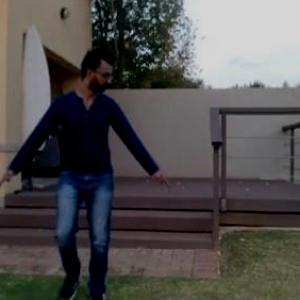land: (0, 43, 181, 299)
